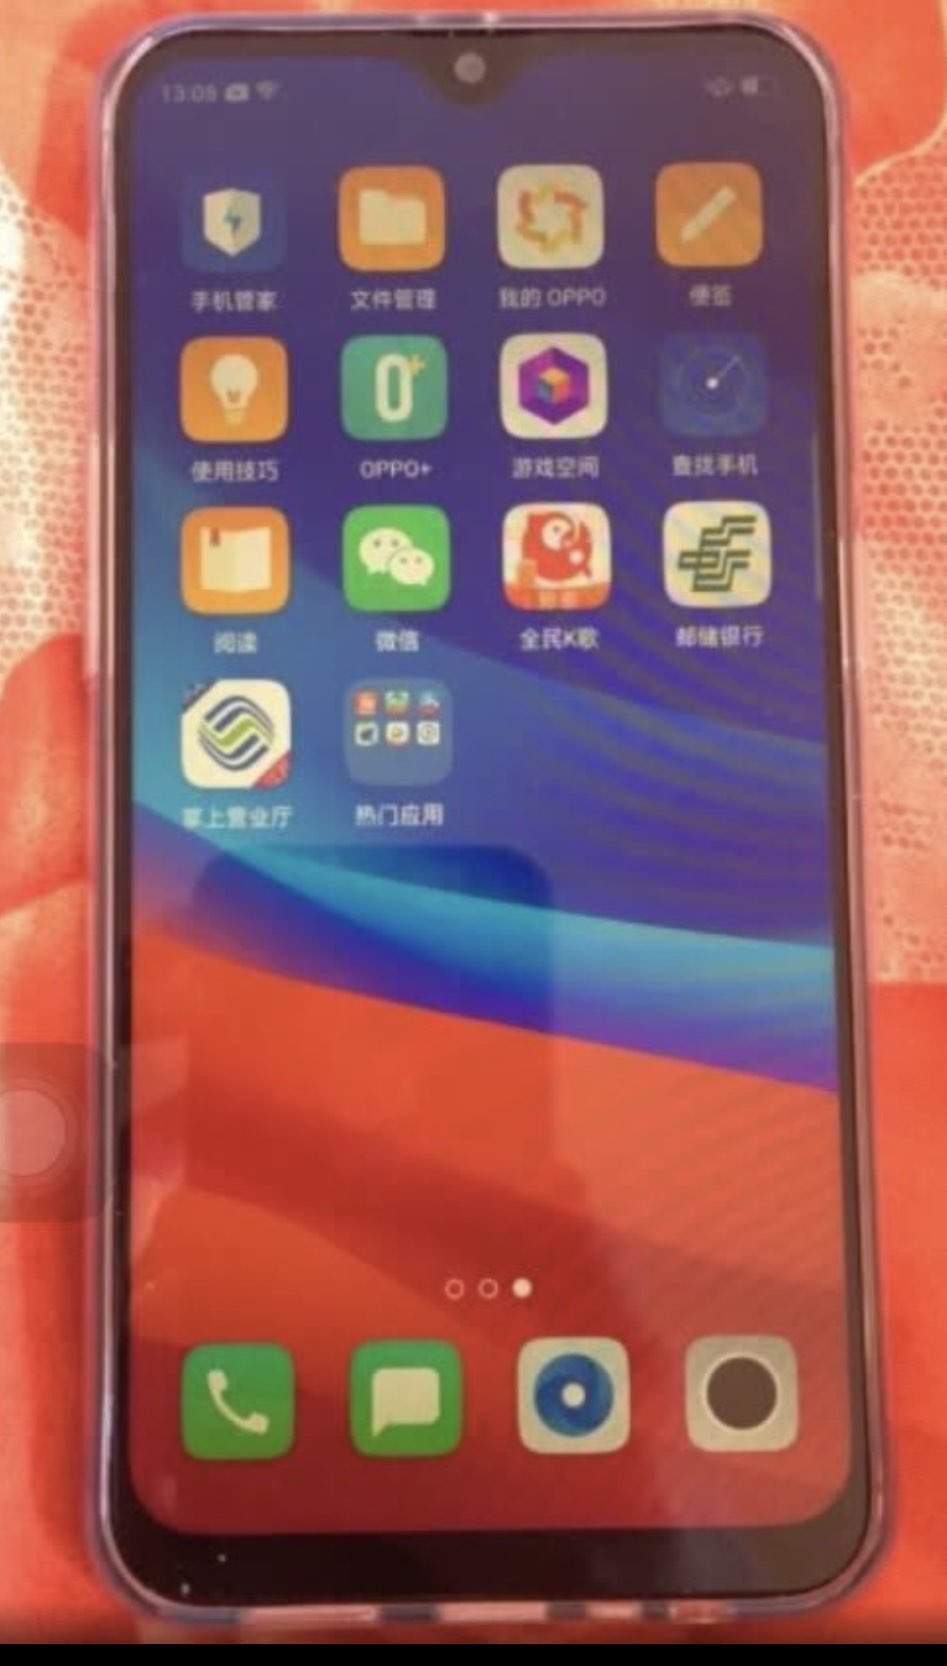mobil: (78, 8, 900, 1636)
